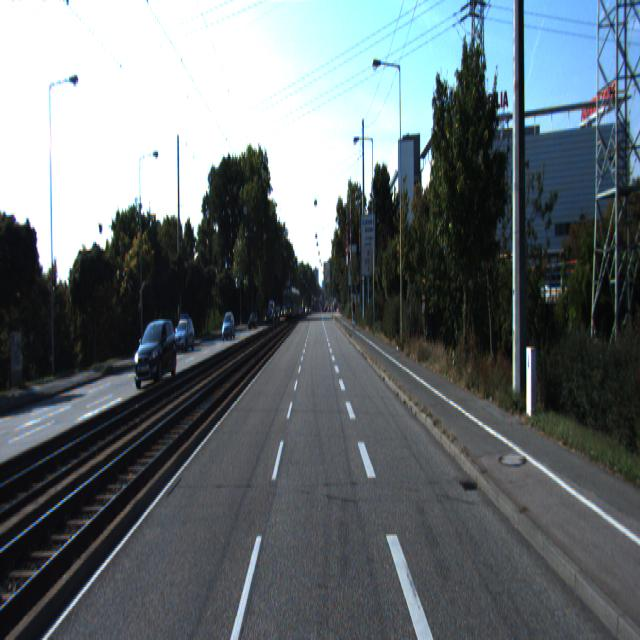Car: (132, 317, 179, 391), (172, 316, 195, 358)
